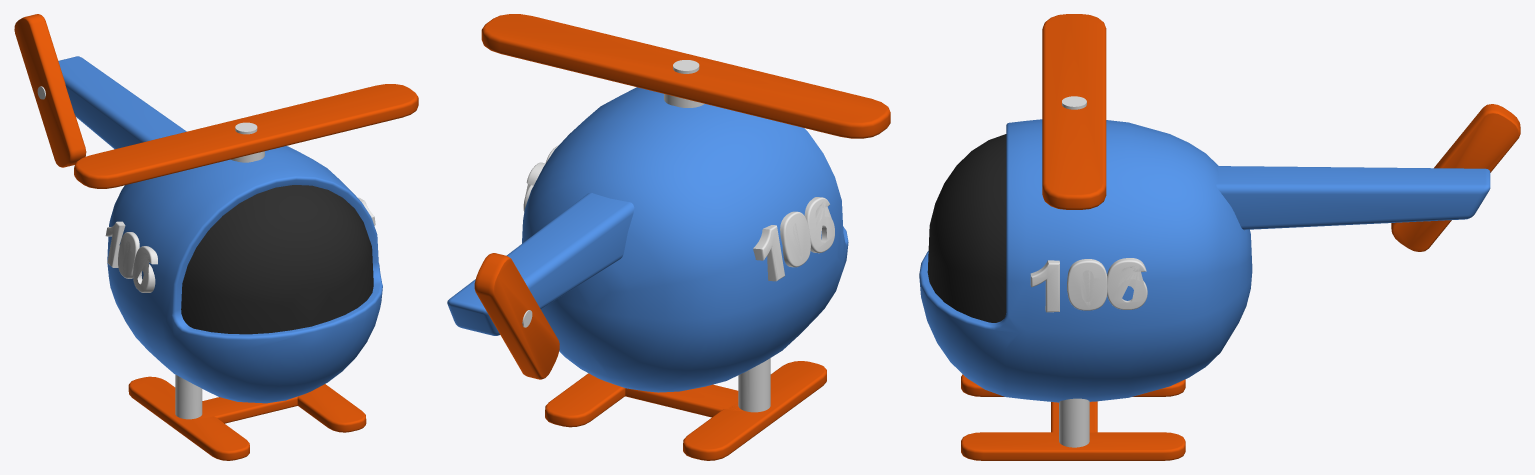
File: helikopter.fbx
The picture shows the model from 3 angles, left to right: view 1: azimuth 30°, elevation 25°; view 2: azimuth 150°, elevation 25°; view 3: azimuth 270°, elevation 25°; orthographic projection. The views are drawn at different scales.
Parts seen in each view (by area): view 1: govde, camve106, pervaneler, ayaklar; view 2: govde, pervaneler, ayaklar, camve106; view 3: govde, pervaneler, camve106, ayaklar.
Boxes of the visible parts, box(x1,y1,x2,y2) form: govde: box(37, 56, 382, 403); camve106: box(105, 185, 375, 334); pervaneler: box(14, 14, 418, 188); ayaklar: box(128, 374, 366, 460); govde: box(447, 60, 848, 392); pervaneler: box(474, 14, 890, 379); ayaklar: box(545, 358, 826, 460); camve106: box(523, 146, 834, 281); govde: box(919, 96, 1490, 402); pervaneler: box(1042, 14, 1520, 251); camve106: box(927, 134, 1147, 322); ayaklar: box(961, 374, 1185, 460).
Size of the model in its own units: 346 by 280 by 480.
